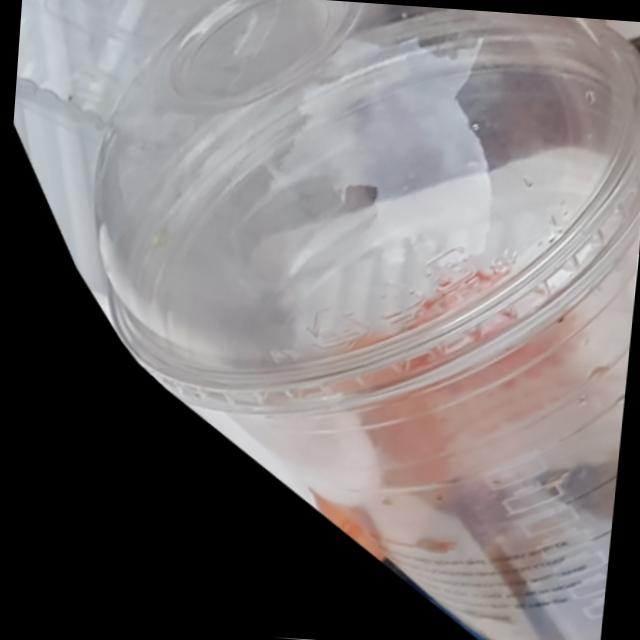plastic: (13, 0, 640, 640)
